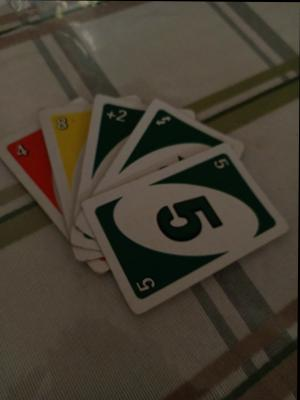-2: (102, 105, 132, 126)
green: (99, 185, 266, 248)
num_4: (13, 141, 37, 160)
num_5: (128, 272, 160, 293), (211, 155, 232, 173)
num_8: (50, 112, 72, 133)
reverse: (155, 111, 176, 132)
